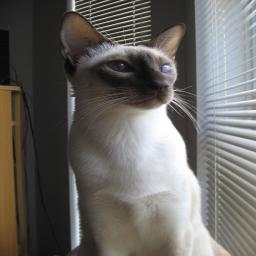catnose: (144, 79, 171, 96)
